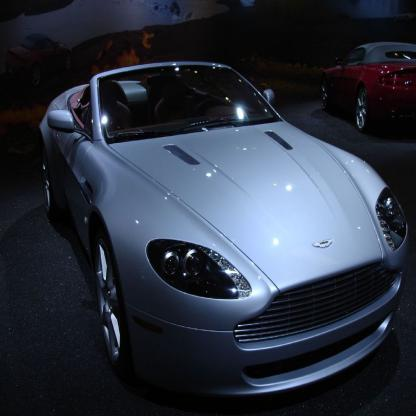Car: (37, 61, 409, 395), (320, 42, 415, 133)
